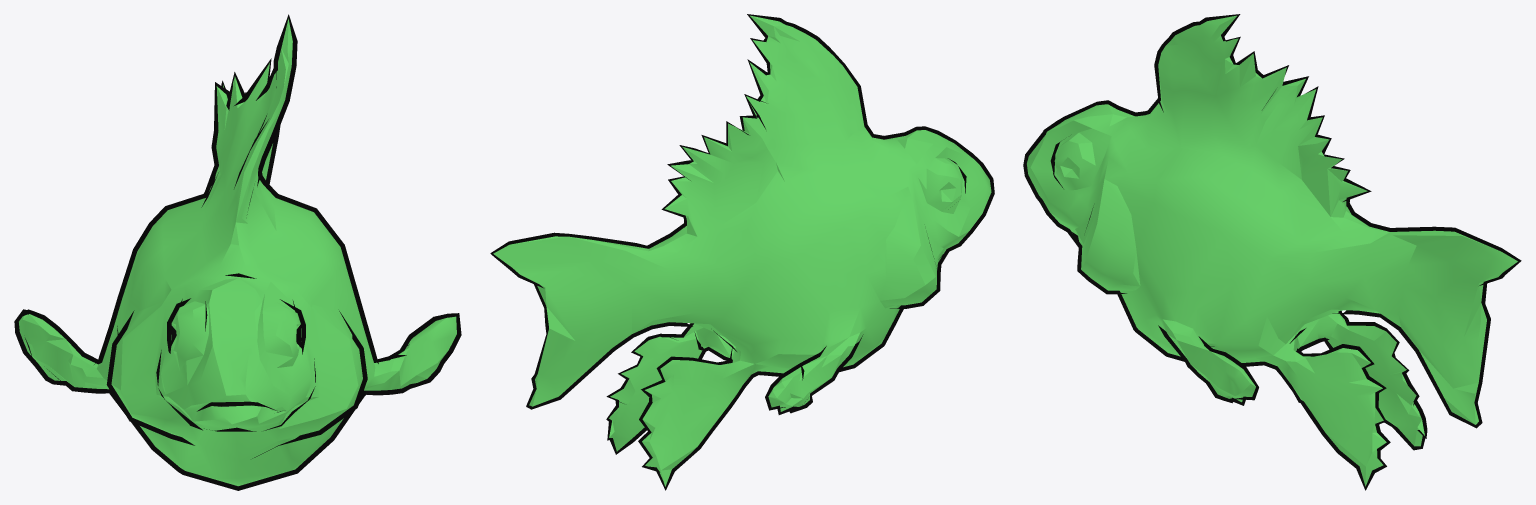
Rendered from sos_03.glb.
The picture shows the model from 3 angles, left to right: view 1: azimuth 30°, elevation 25°; view 2: azimuth 150°, elevation 25°; view 3: azimuth 270°, elevation 25°; orthographic projection. The views are drawn at different scales.
Parts seen in each view (by area): view 1: fish, fish_outline; view 2: fish, fish_outline; view 3: fish, fish_outline.
Part boxes in pixels (left/top/right/bottom): fish: left=19, top=18, right=456, bottom=486; fish_outline: left=14, top=14, right=461, bottom=490; fish: left=493, top=15, right=991, bottom=486; fish_outline: left=490, top=14, right=994, bottom=490; fish: left=1027, top=15, right=1517, bottom=486; fish_outline: left=1023, top=14, right=1521, bottom=490.
Size of the model in its own units: 0.718 by 0.9272 by 0.9523.
